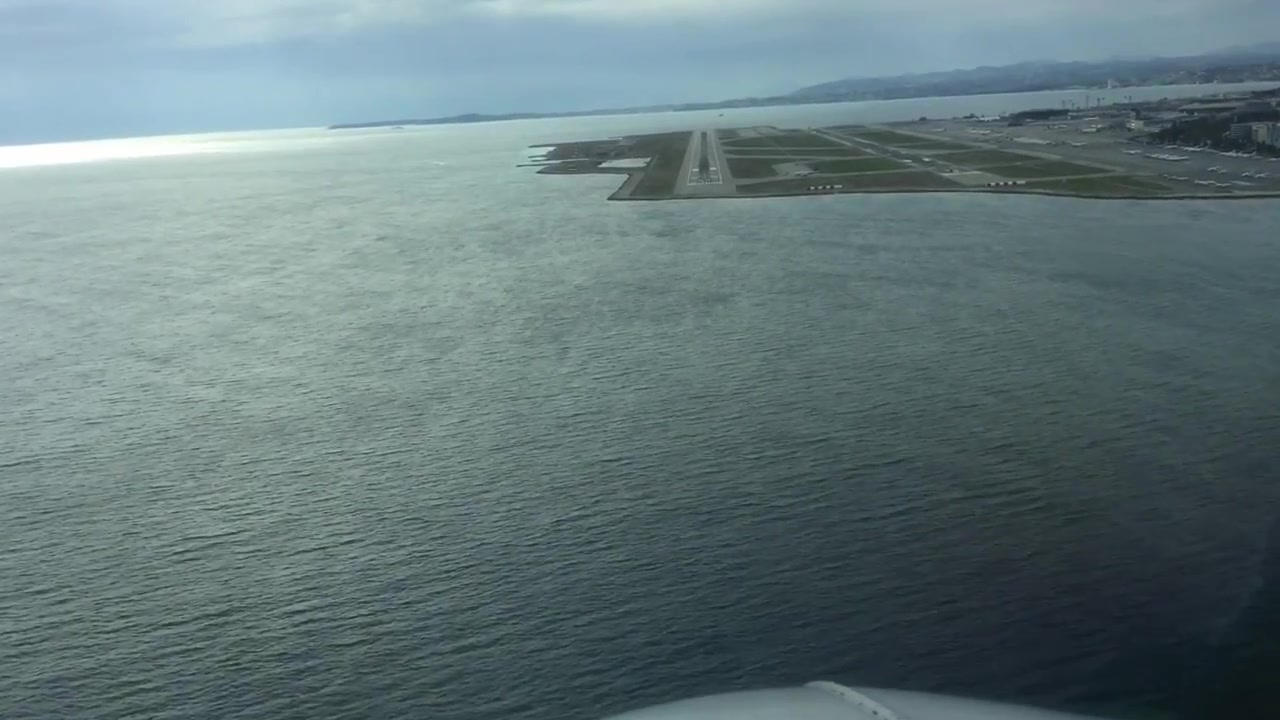entrance: (688, 180, 721, 186)
runway: (813, 128, 985, 176), (673, 129, 734, 195)
